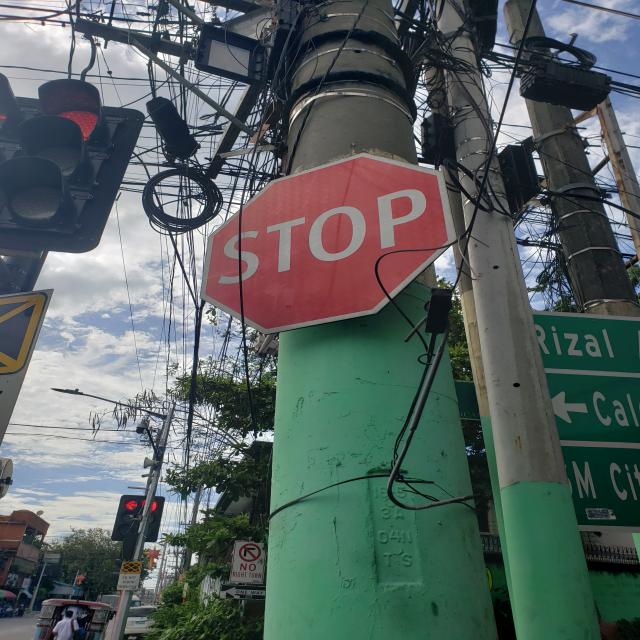stop-sign: (200, 153, 458, 335)
